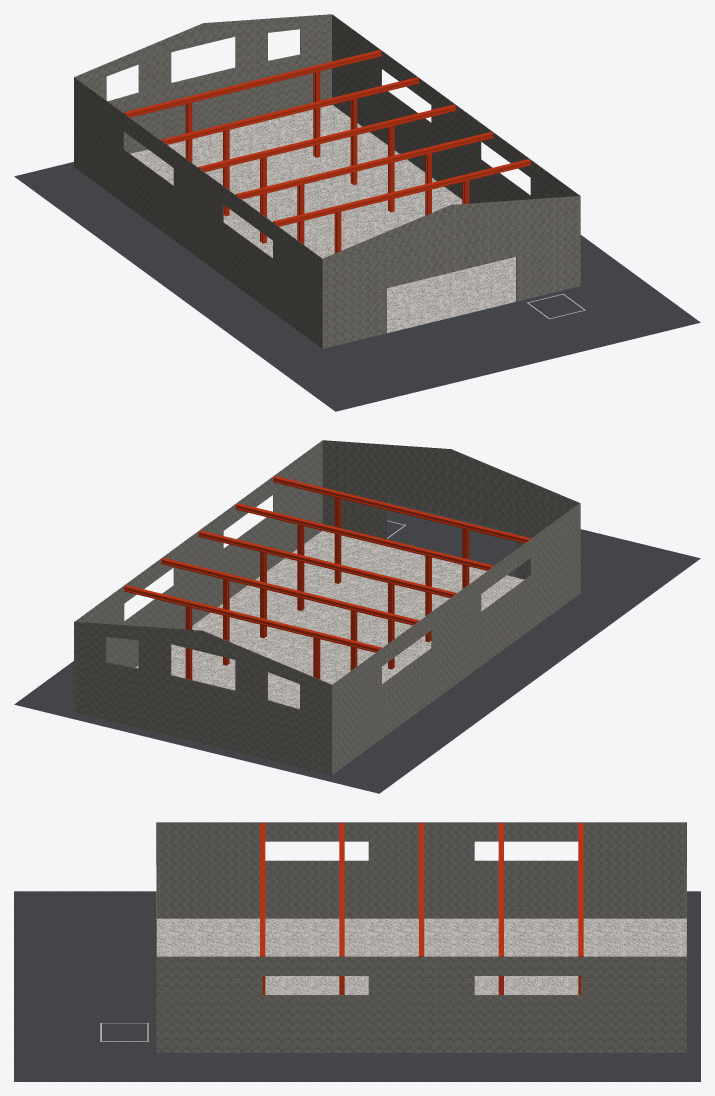
File: warehouse.obj
The picture shows the model from 3 angles, top to bottom: view 1: azimuth 30°, elevation 25°; view 2: azimuth 150°, elevation 25°; view 3: azimuth 270°, elevation 25°; orthographic projection. The views are drawn at different scales.
Visible parts, largest first — view 1: Plane_019-mesh, Plane_007-mesh, Plane_003-mesh, Plane_006-mesh, Plane_005-mesh, Cube_010-mesh, Plane_004-mesh; view 2: Plane_019-mesh, Plane_005-mesh, Plane_007-mesh, Plane_003-mesh, Plane_006-mesh, Cube_010-mesh, Plane_004-mesh; view 3: Plane_004-mesh, Plane_003-mesh, Plane_019-mesh, Plane_007-mesh, Cube_010-mesh.
Part boxes in pixels (x1,y1,x2,y2): Plane_019-mesh: (14, 162, 700, 411); Plane_007-mesh: (130, 104, 515, 333); Plane_003-mesh: (74, 77, 322, 348); Plane_006-mesh: (322, 196, 580, 348); Plane_005-mesh: (74, 14, 331, 166); Cube_010-mesh: (124, 50, 530, 253); Plane_004-mesh: (332, 14, 580, 285); Plane_019-mesh: (14, 501, 700, 793); Plane_005-mesh: (74, 622, 332, 774); Plane_007-mesh: (135, 530, 524, 708); Plane_003-mesh: (332, 503, 580, 774); Plane_006-mesh: (322, 440, 580, 592); Cube_010-mesh: (124, 476, 530, 679); Plane_004-mesh: (74, 440, 322, 711); Plane_004-mesh: (156, 956, 686, 1052); Plane_003-mesh: (157, 822, 686, 918); Plane_019-mesh: (14, 891, 700, 1081); Plane_007-mesh: (157, 918, 686, 994); Cube_010-mesh: (260, 823, 583, 994).
Size of the model in its own units: 42.46 by 12.6 by 64.73.
